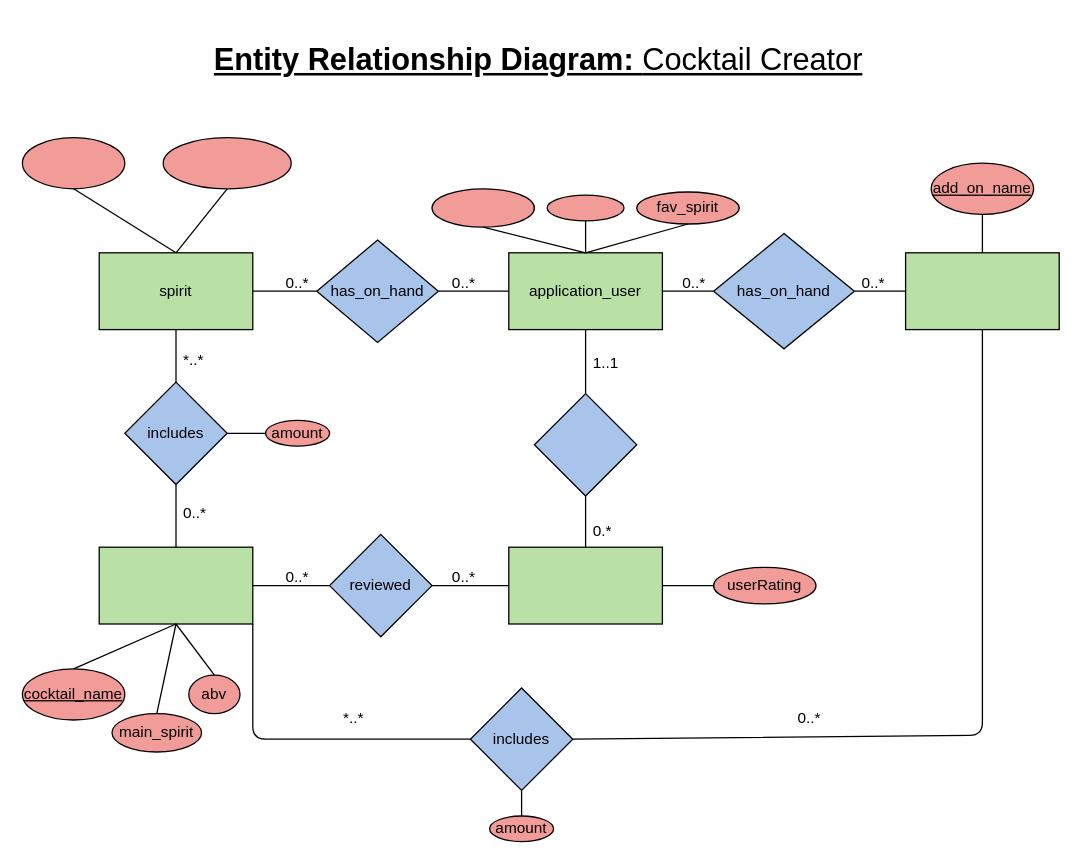
Image size: 1082x864. Some labels were removed from this diagram. Each missing label, with the box of its shape:
abv_percentage: (162, 136, 291, 189)
add_on: (904, 252, 1059, 330)
age: (546, 194, 624, 221)
cocktail_recipe: (98, 546, 253, 624)
review: (508, 546, 662, 624)
reviews: (533, 392, 637, 496)
spirit_name: (21, 136, 125, 189)
username: (431, 188, 534, 227)
